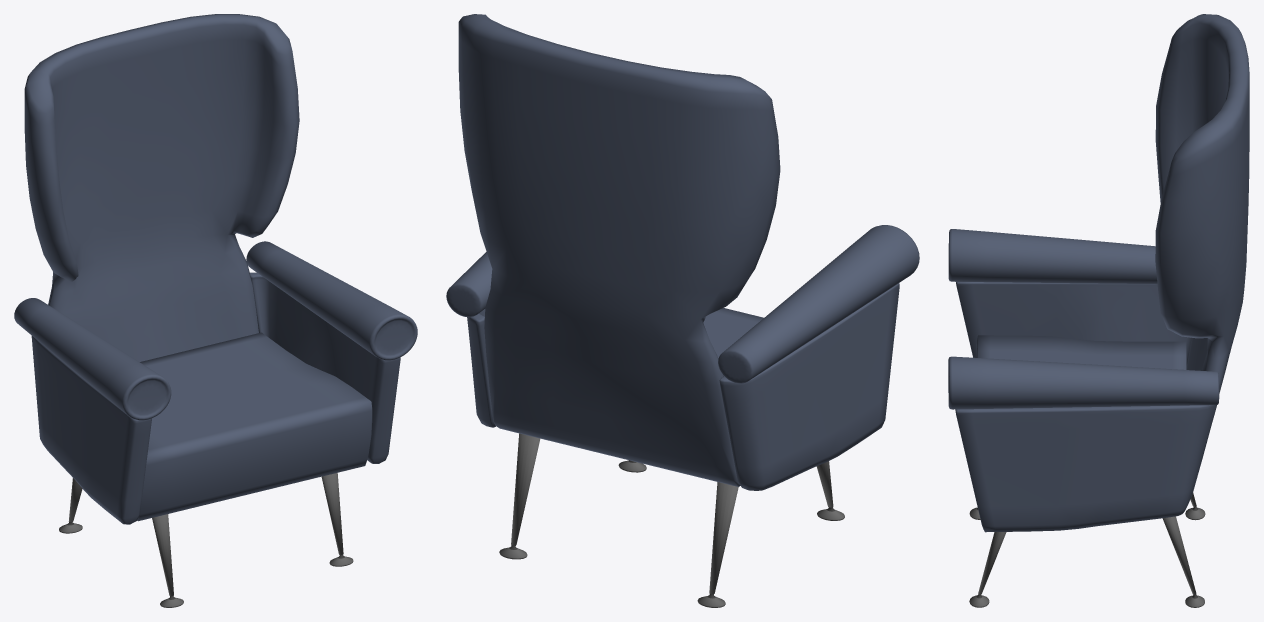
File: armchair.glb
3 renders of one model, left to right at view 1: azimuth 30°, elevation 25°; view 2: azimuth 150°, elevation 25°; view 3: azimuth 270°, elevation 25°, orthographic. The views are drawn at different scales.
Visible parts, largest first — view 1: sillon_orejas.001_Cub, sillonrejas_pot.0; view 2: sillon_orejas.001_Cub, sillonrejas_pot.0; view 3: sillon_orejas.001_Cub, sillonrejas_pot.0.
Part boxes in pixels (<box>): sillon_orejas.001_Cub: <box>14,14,417,524</box>; sillonrejas_pot.0: <box>59,473,353,607</box>; sillon_orejas.001_Cub: <box>446,14,919,490</box>; sillonrejas_pot.0: <box>499,433,844,607</box>; sillon_orejas.001_Cub: <box>948,14,1249,532</box>; sillonrejas_pot.0: <box>969,492,1205,607</box>.
Size of the model in its own units: 0.788 by 1.18 by 0.6572.
